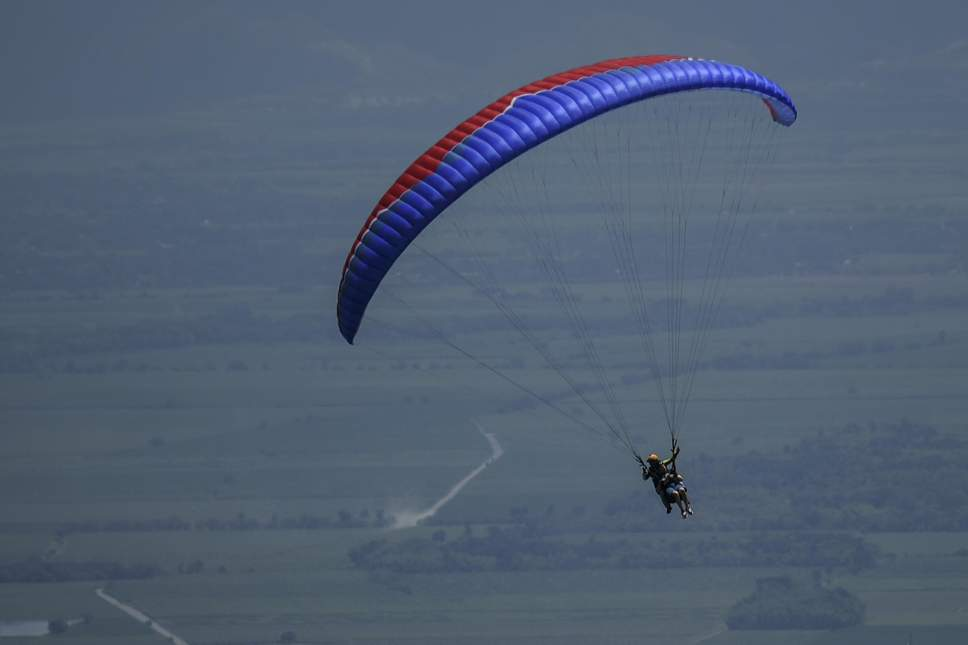Paraglider: (322, 39, 810, 351)
